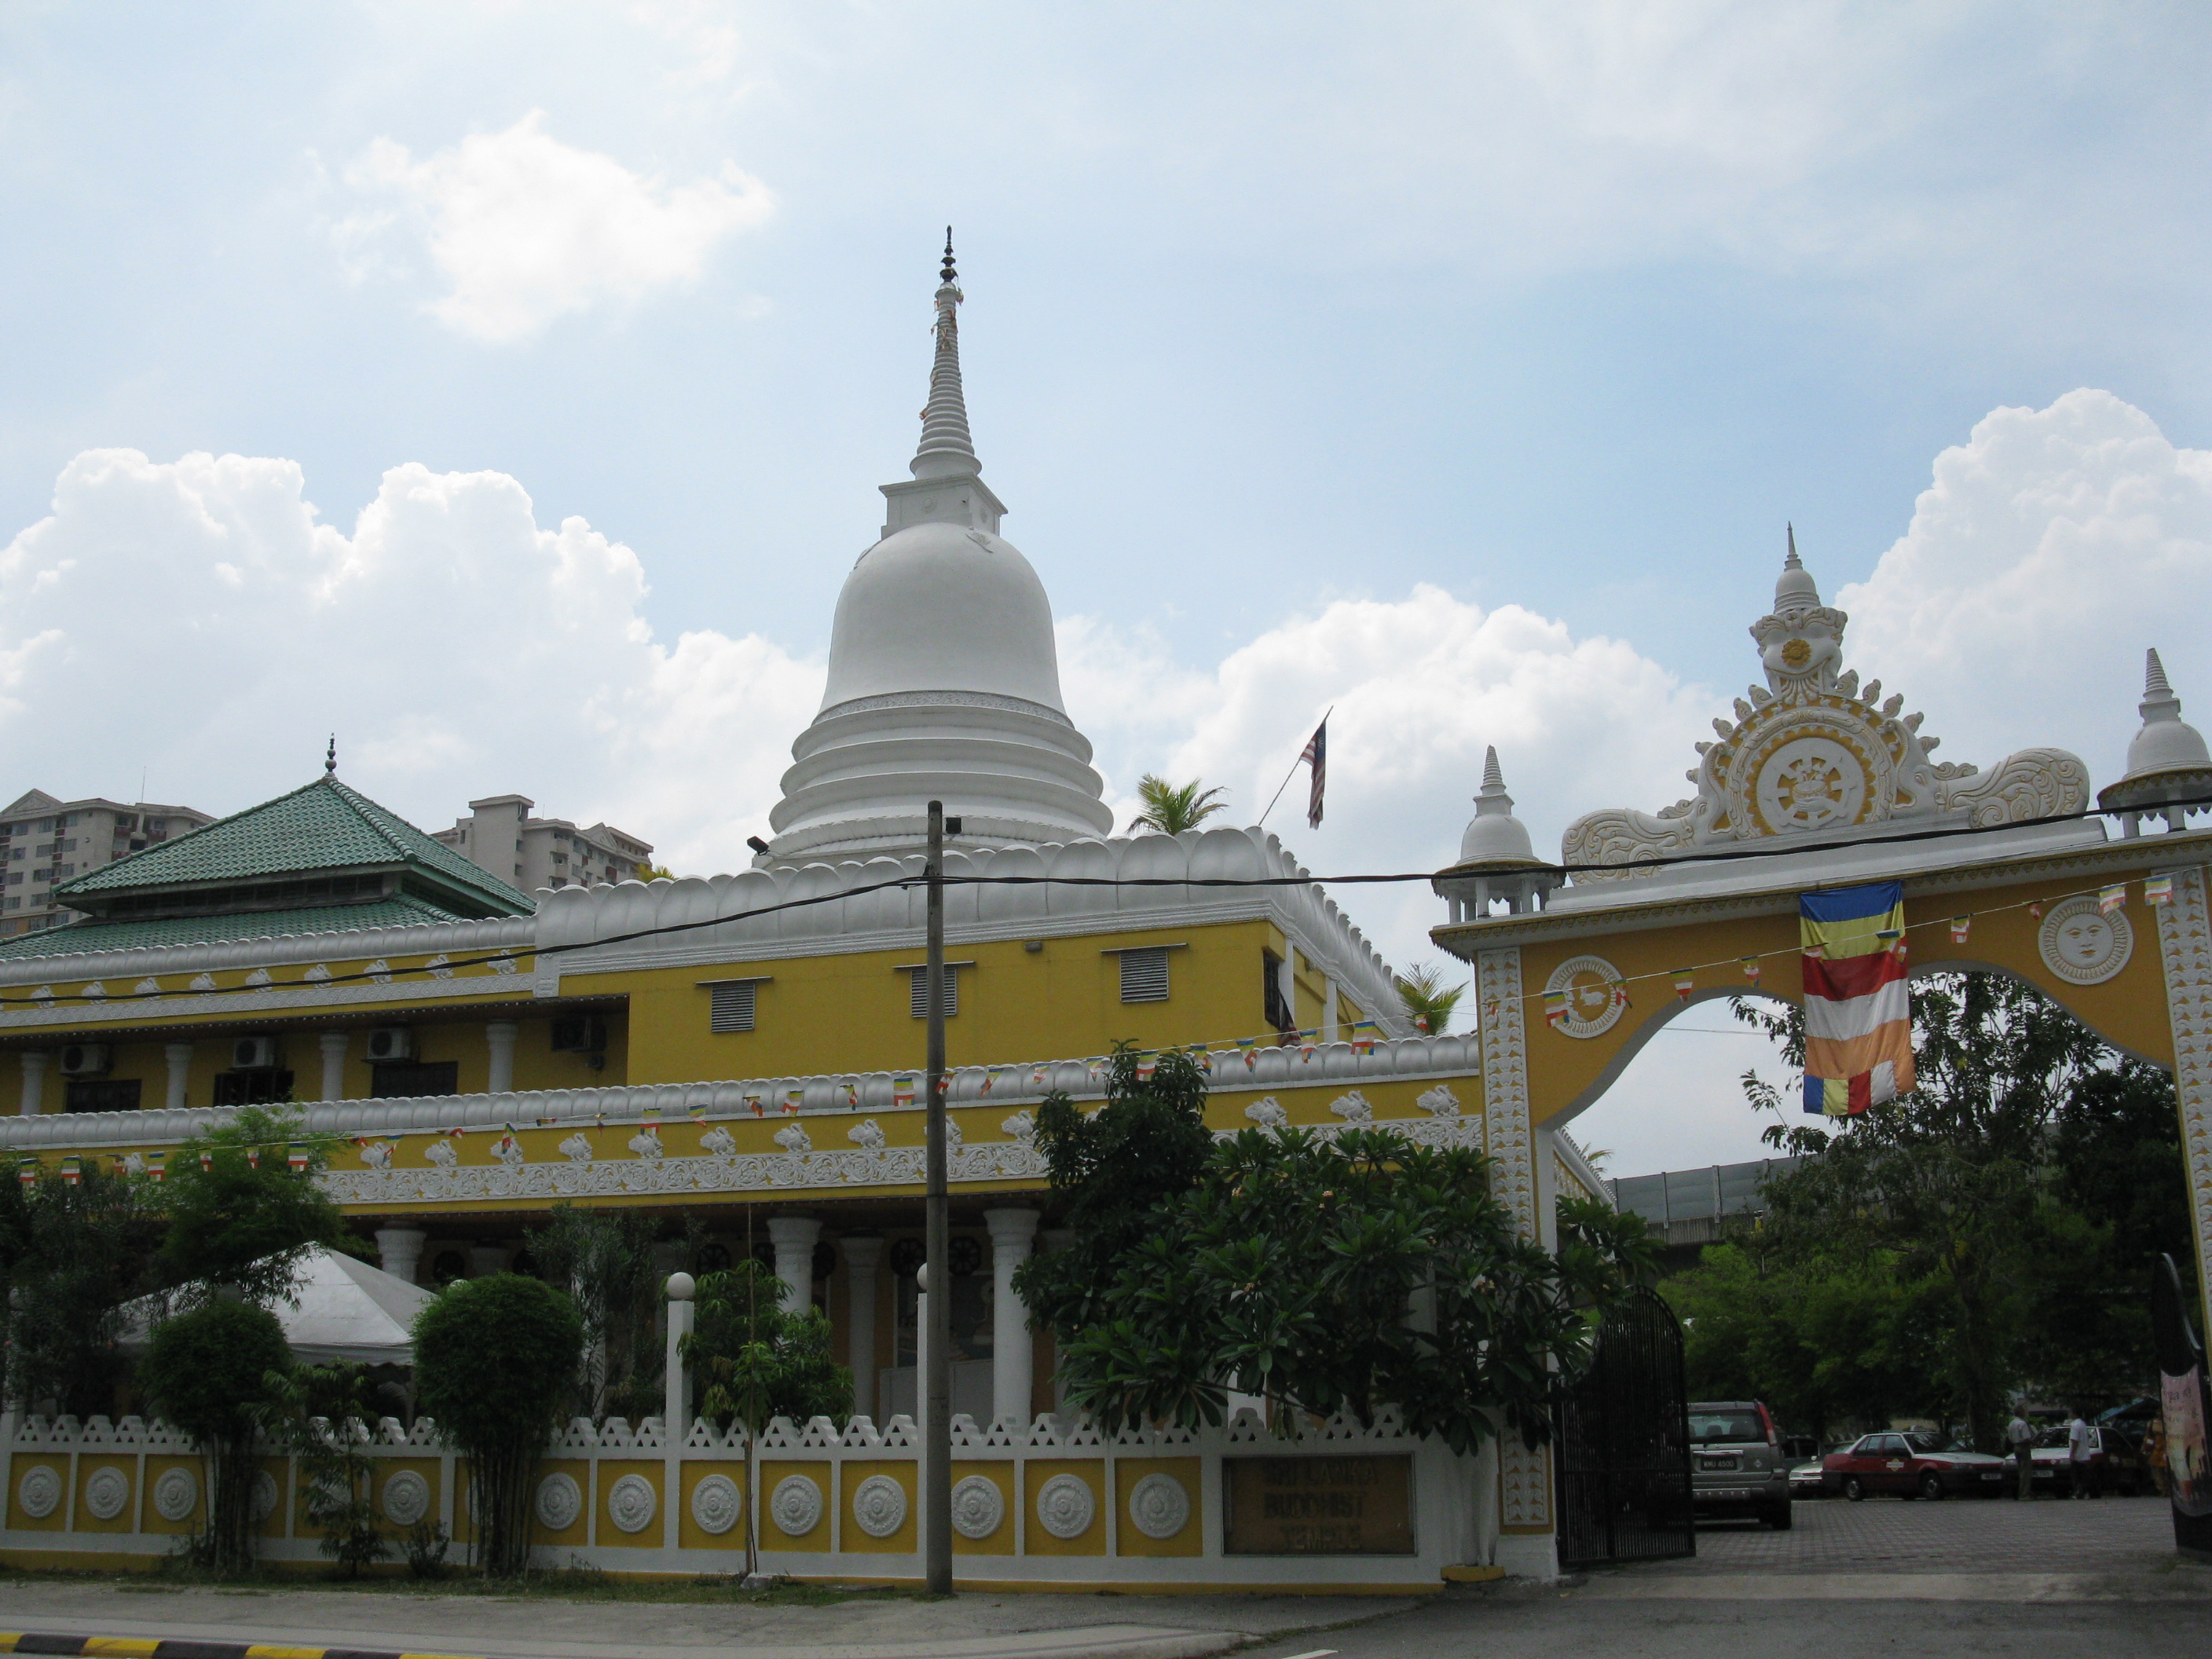Buddhist Temple: (167, 232, 2156, 1431)
